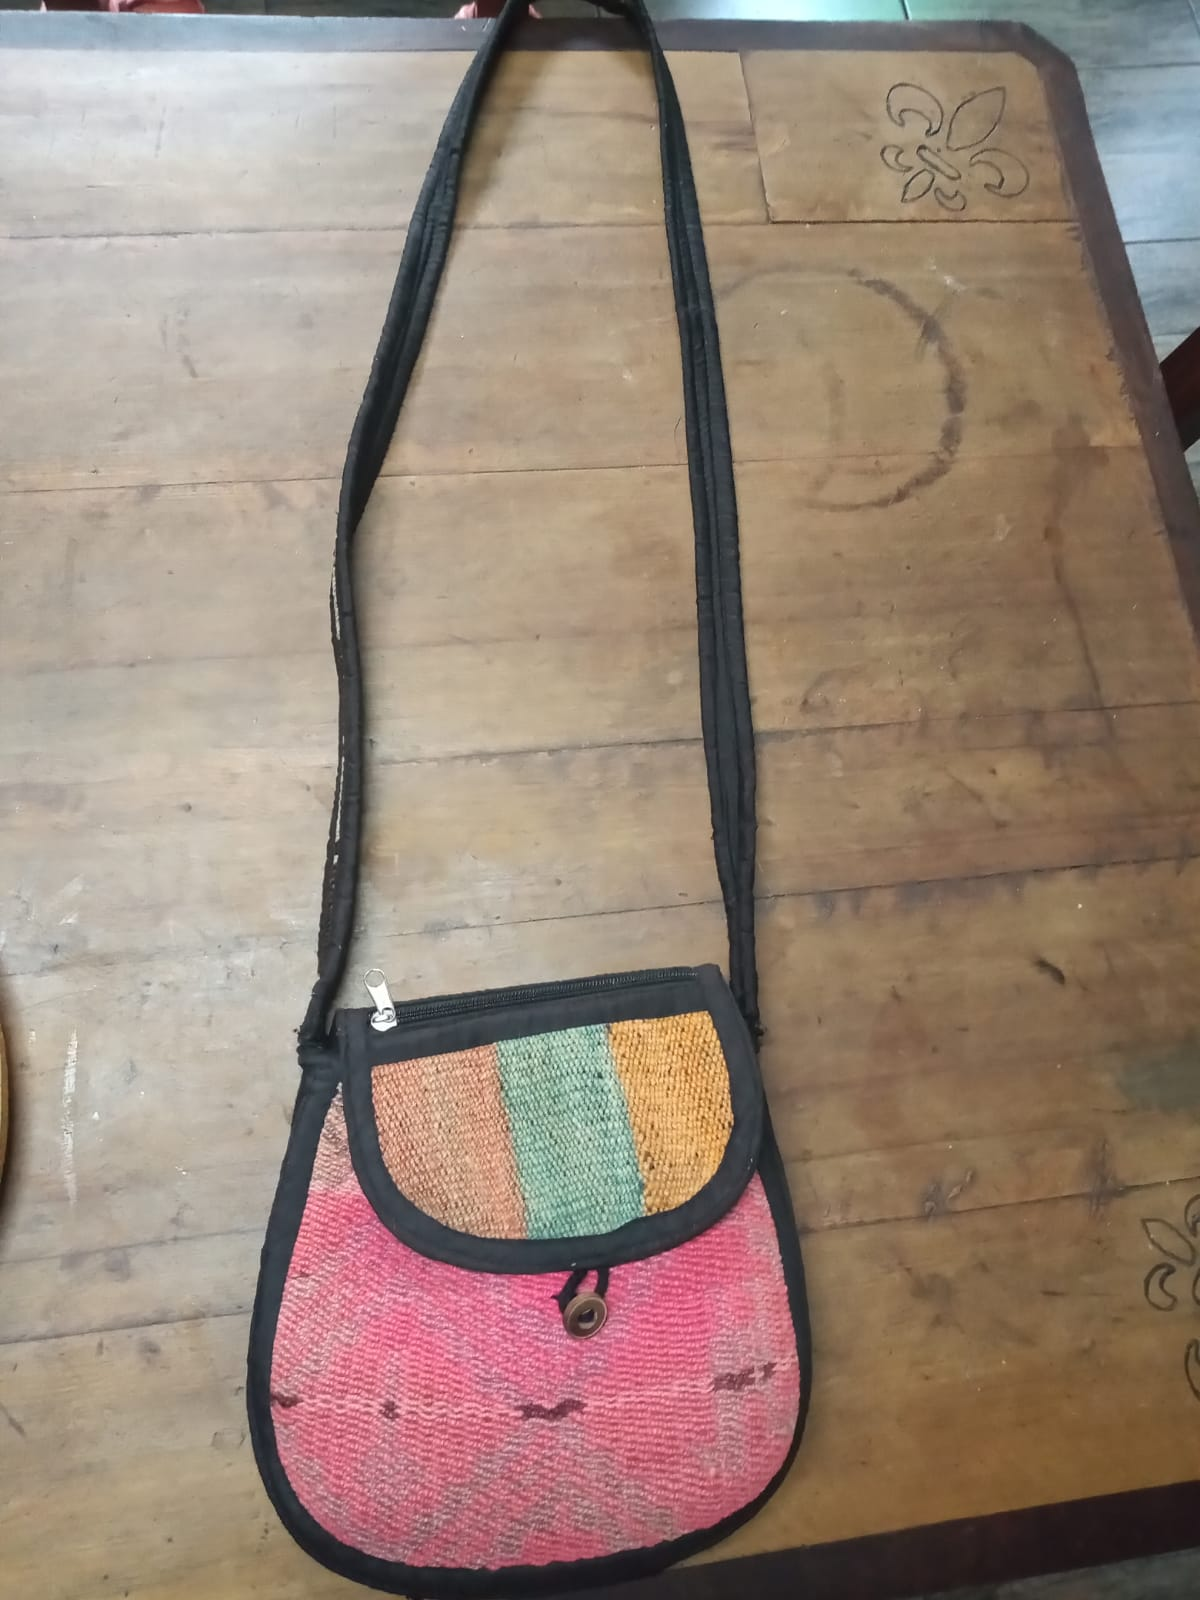cartera: (242, 24, 824, 1600)
tela: (252, 954, 807, 1592)
